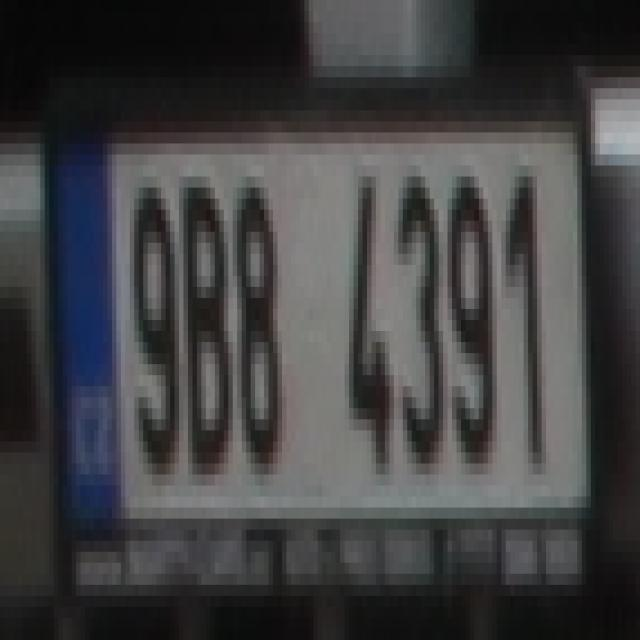1: (506, 144, 550, 464)
3: (394, 154, 447, 452)
4: (345, 166, 398, 474)
8: (233, 166, 291, 474)
9: (438, 154, 496, 474), (125, 166, 179, 474)
B: (179, 176, 233, 474)
